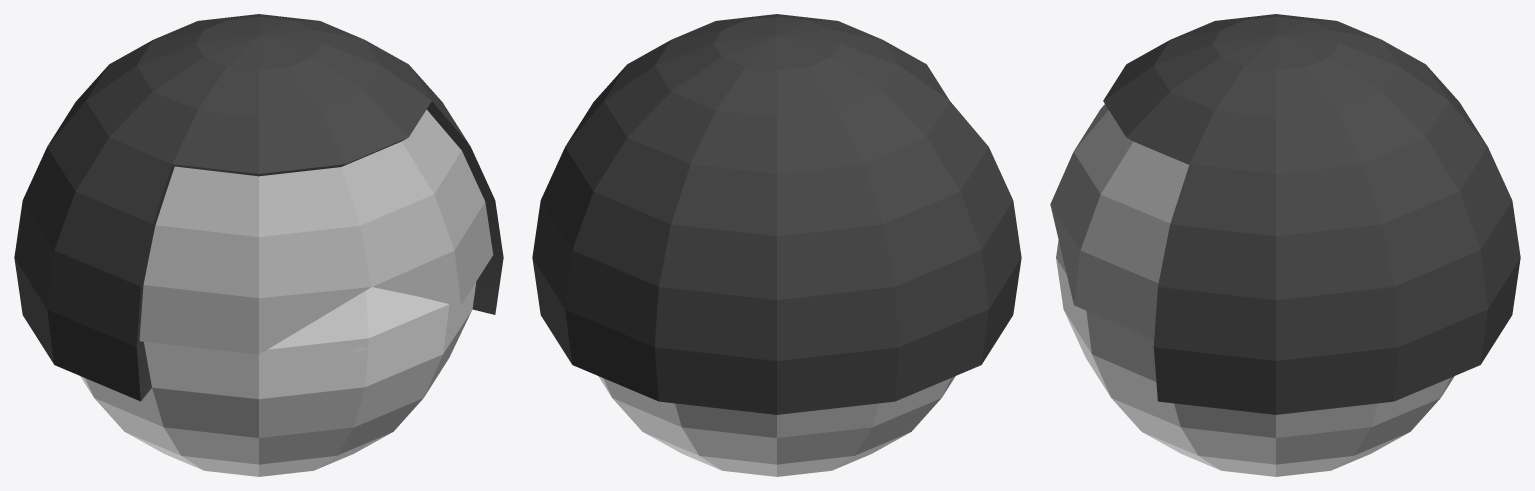
File: HelmetMesh.fbx
The picture shows the model from 3 angles, left to right: view 1: azimuth 30°, elevation 25°; view 2: azimuth 150°, elevation 25°; view 3: azimuth 270°, elevation 25°; orthographic projection.
Parts seen in each view (by area): view 1: pSphere6; view 2: pSphere6; view 3: pSphere6.
Boxes of the visible parts, x1=… form: pSphere6: x1=14, y1=14, x2=503, y2=476; pSphere6: x1=532, y1=14, x2=1021, y2=476; pSphere6: x1=1050, y1=14, x2=1520, y2=476.
Size of the model in its own units: 115 by 109 by 111.
1 material, 1 textured.
